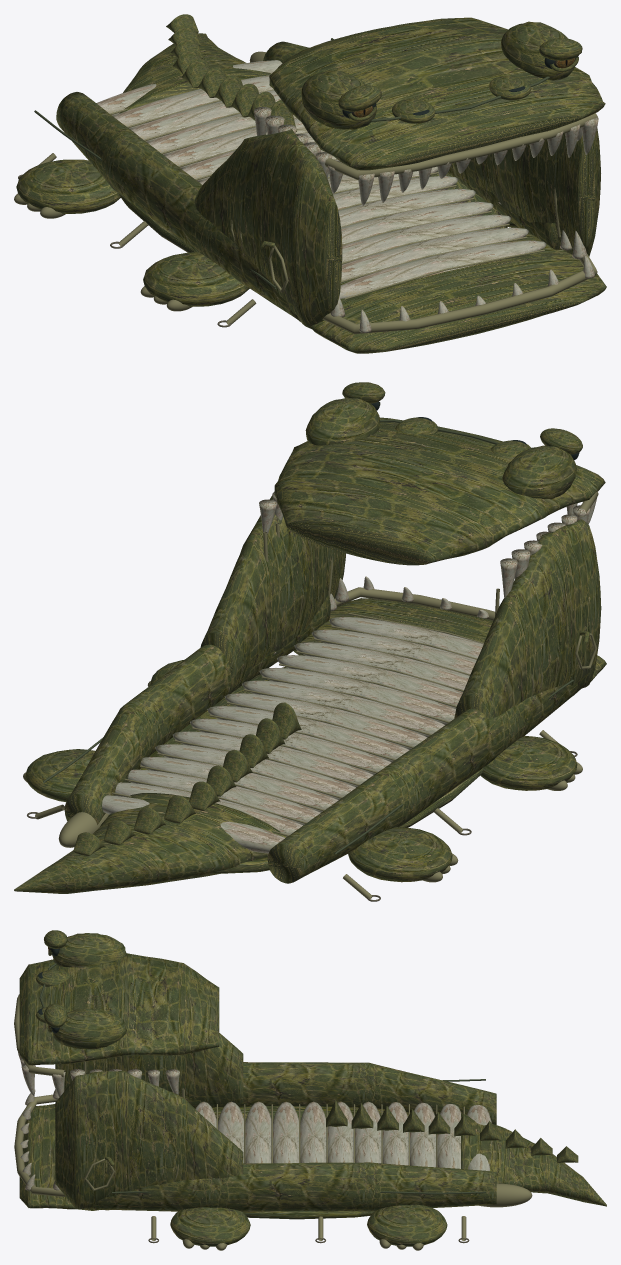
The model's file is night-crocodile.glb.
The picture shows the model from 3 angles, top to bottom: view 1: azimuth 30°, elevation 25°; view 2: azimuth 150°, elevation 25°; view 3: azimuth 270°, elevation 25°; orthographic projection. The views are drawn at different scales.
Parts seen in each view (by area): view 1: Body, UpperJaw; view 2: Body, UpperJaw; view 3: Body, UpperJaw.
Boxes of the visible parts, box(x1,y1,x2,y2) form: Body: box(14, 14, 606, 353); UpperJaw: box(254, 17, 605, 205); Body: box(14, 491, 606, 901); UpperJaw: box(259, 382, 605, 598); Body: box(14, 1033, 606, 1250); UpperJaw: box(14, 930, 219, 1097).
Bounding box in the file's own units: 6.4 × 3.86 × 9.94.
9 materials, 4 textured.
